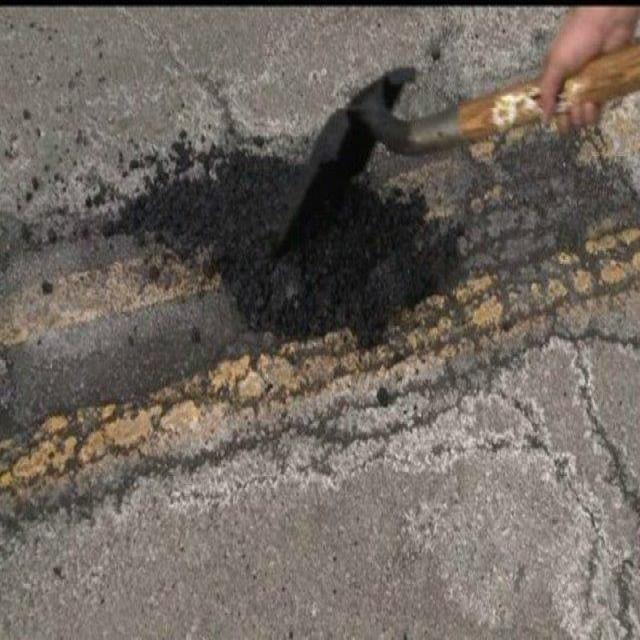jalan retak: (492, 317, 640, 640), (126, 337, 398, 486), (387, 257, 547, 486), (3, 379, 169, 532), (465, 193, 640, 320), (102, 7, 256, 144), (462, 138, 640, 249)
lubang: (115, 127, 456, 350)
